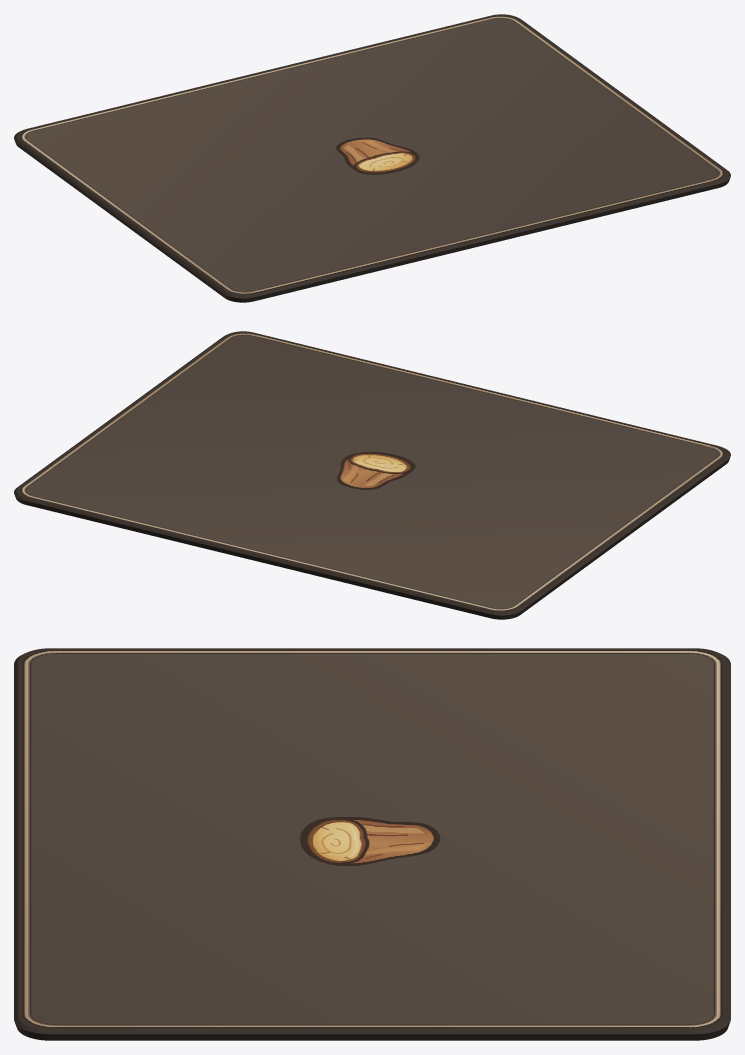
The model's file is wood_storage_empty.glb.
The picture shows the model from 3 angles, top to bottom: view 1: azimuth 30°, elevation 25°; view 2: azimuth 150°, elevation 25°; view 3: azimuth 270°, elevation 25°; orthographic projection. The views are drawn at different scales.
Visible parts, largest first — view 1: WoodStoragePlate_Empty; view 2: WoodStoragePlate_Empty; view 3: WoodStoragePlate_Empty.
Boxes of the visible parts, left/top/right/bottom form: WoodStoragePlate_Empty: left=14, top=14, right=730, bottom=302; WoodStoragePlate_Empty: left=14, top=331, right=730, bottom=619; WoodStoragePlate_Empty: left=14, top=648, right=730, bottom=1040.
Bounding box in the file's own units: 0.656 × 0.008 × 0.516.
2 materials, 1 textured.
